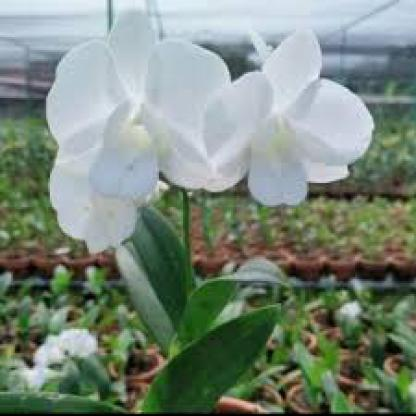ANGGREK: (25, 7, 386, 253)
